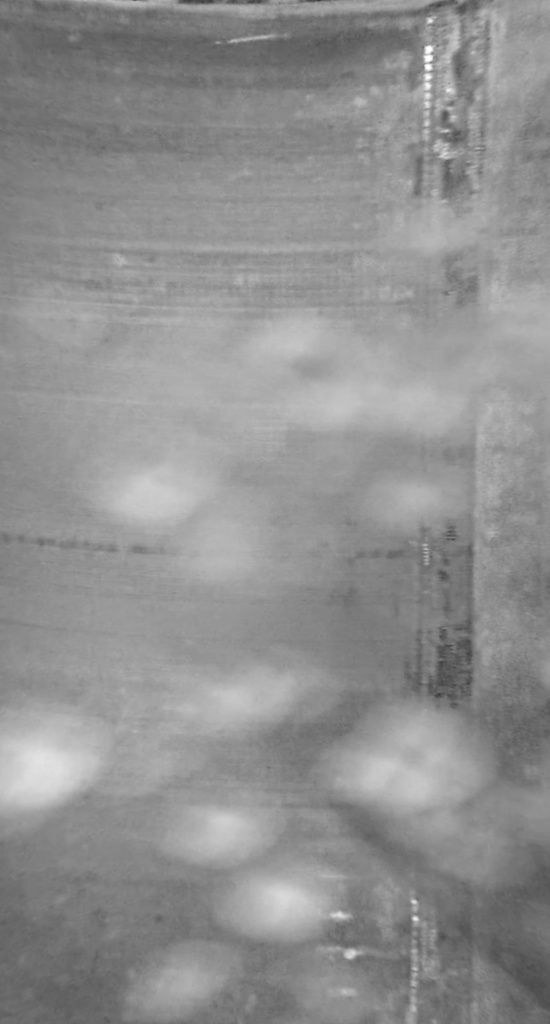splice: (399, 1, 496, 1021)
